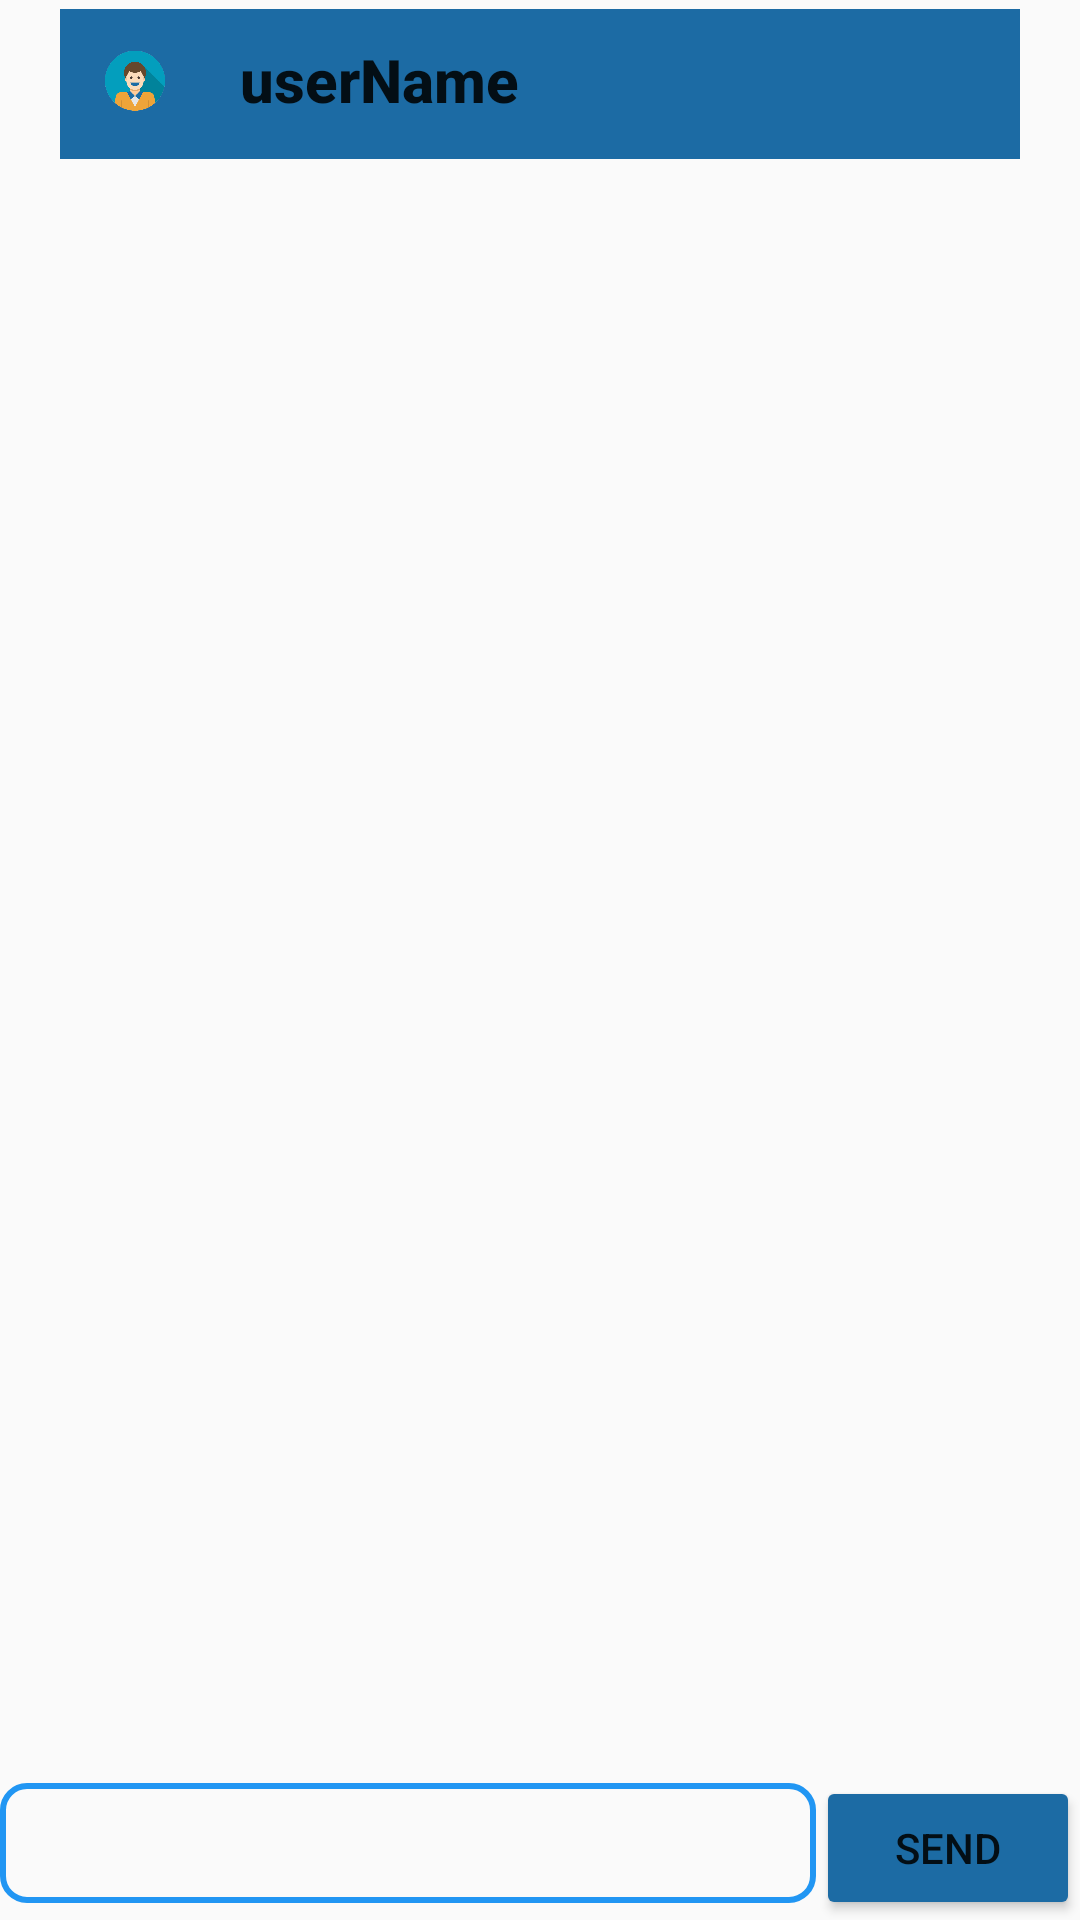

Icons on this 1080w x 1920h Android screen, each with the point to tap as [x,y]:
usercard: [135,84]
